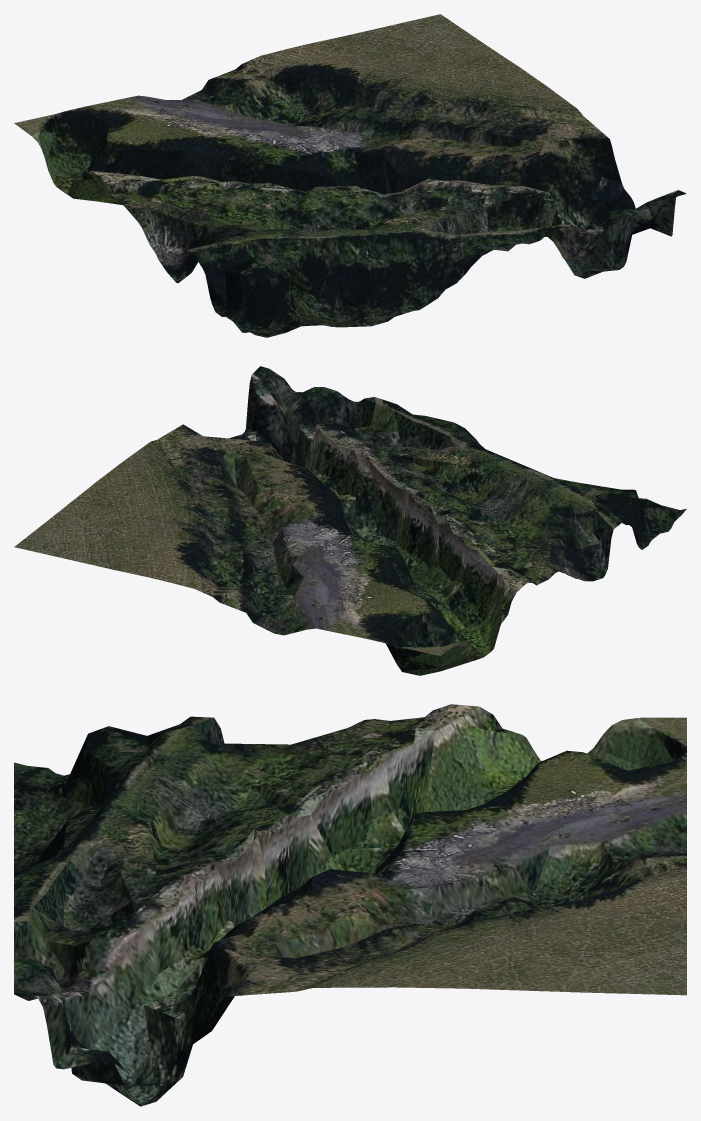
The model's file is map_15_8183_13779.dae.
3 views of the same model, one above another, from view 1: azimuth 30°, elevation 25°; view 2: azimuth 150°, elevation 25°; view 3: azimuth 270°, elevation 25° (orthographic). The views are drawn at different scales.
Visible parts, largest first — view 1: Ter0; view 2: Ter0; view 3: Ter0.
Part boxes in pixels (x1,y1,x2,y2): Ter0: (14, 14, 686, 337); Ter0: (14, 366, 686, 675); Ter0: (14, 704, 686, 1106).
Size of the model in its own units: 63.87 by 63.88 by 15.27.
3 materials, 3 textured.
